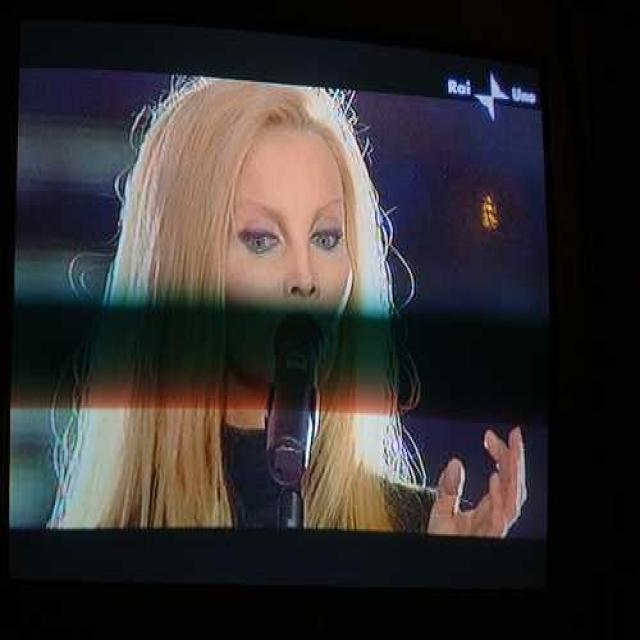microphone: (266, 309, 323, 496)
